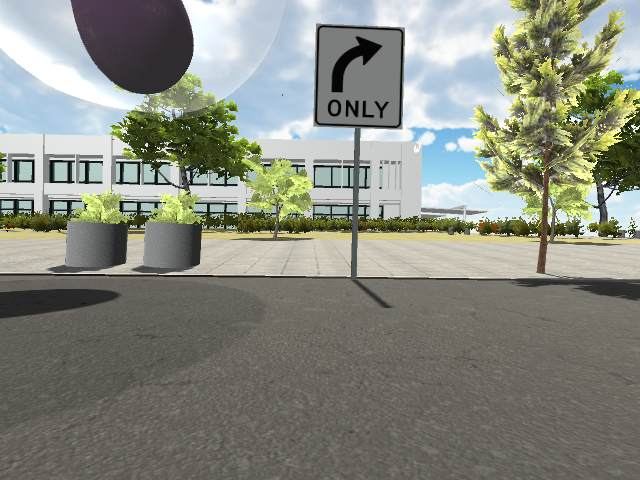arrow_right: (332, 33, 384, 96)
